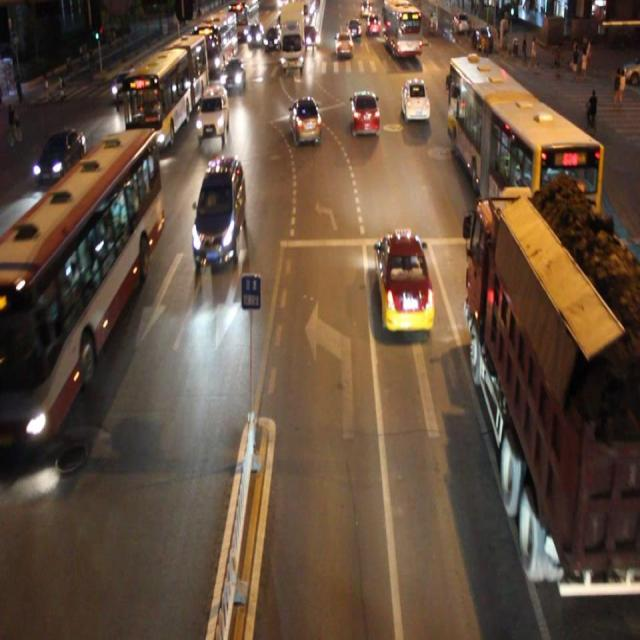bus: (472, 198, 640, 582)
car: (190, 154, 244, 264), (375, 230, 432, 332), (34, 128, 89, 193), (196, 86, 230, 140), (290, 96, 321, 141), (350, 89, 379, 136), (400, 76, 430, 121), (110, 67, 138, 107), (222, 58, 246, 94)
van: (1, 129, 154, 436), (447, 56, 599, 236), (125, 34, 206, 153)
